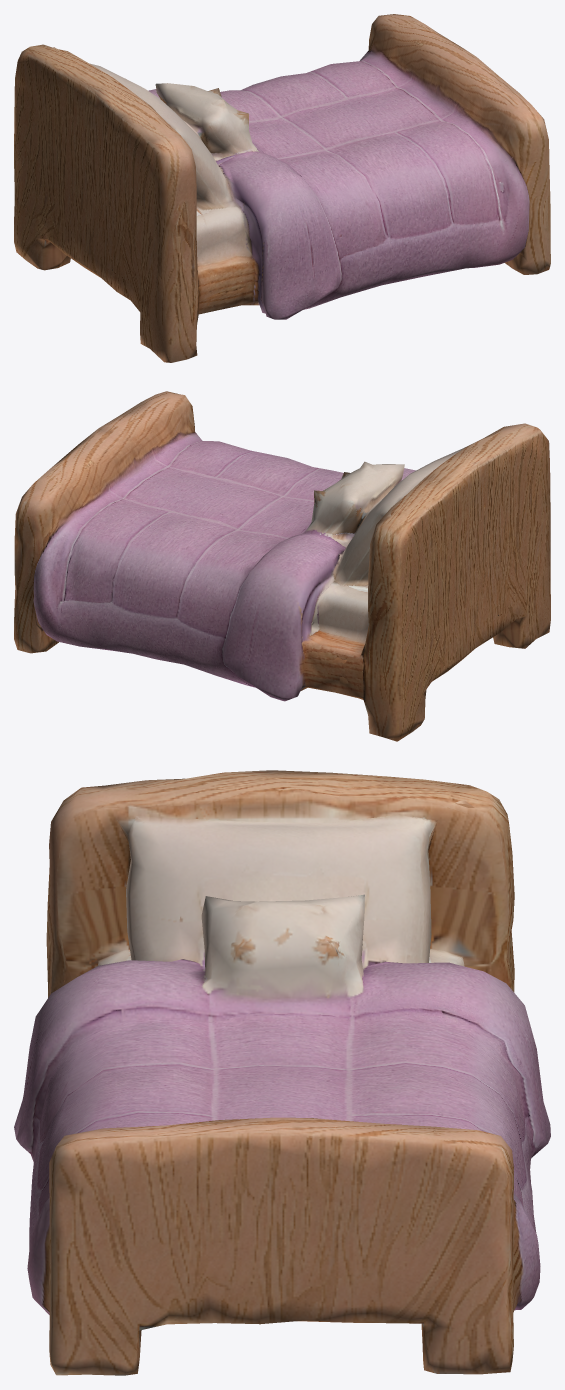
Rendered from Prop_Bed.glb.
3 renders of one model, top to bottom at view 1: azimuth 30°, elevation 25°; view 2: azimuth 150°, elevation 25°; view 3: azimuth 270°, elevation 25°, orthographic. The views are drawn at different scales.
Parts seen in each view (by area): view 1: input; view 2: input; view 3: input.
Boxes of the visible parts, left/top/right/bottom form: input: left=14, top=14, right=550, bottom=362; input: left=14, top=391, right=550, bottom=741; input: left=14, top=770, right=550, bottom=1375.
Bounding box in the file's own units: 0.9769 × 0.5316 × 0.7858.
1 material, 1 textured.
